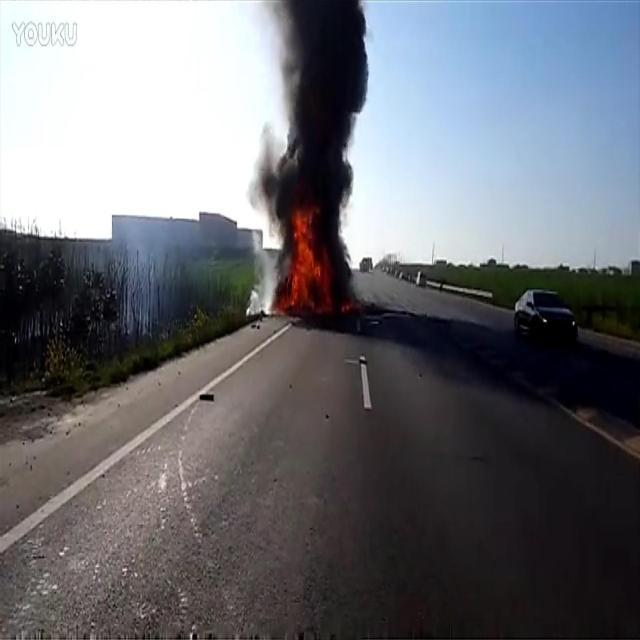Fire: (276, 209, 330, 313)
Smoke: (242, 1, 370, 322)
